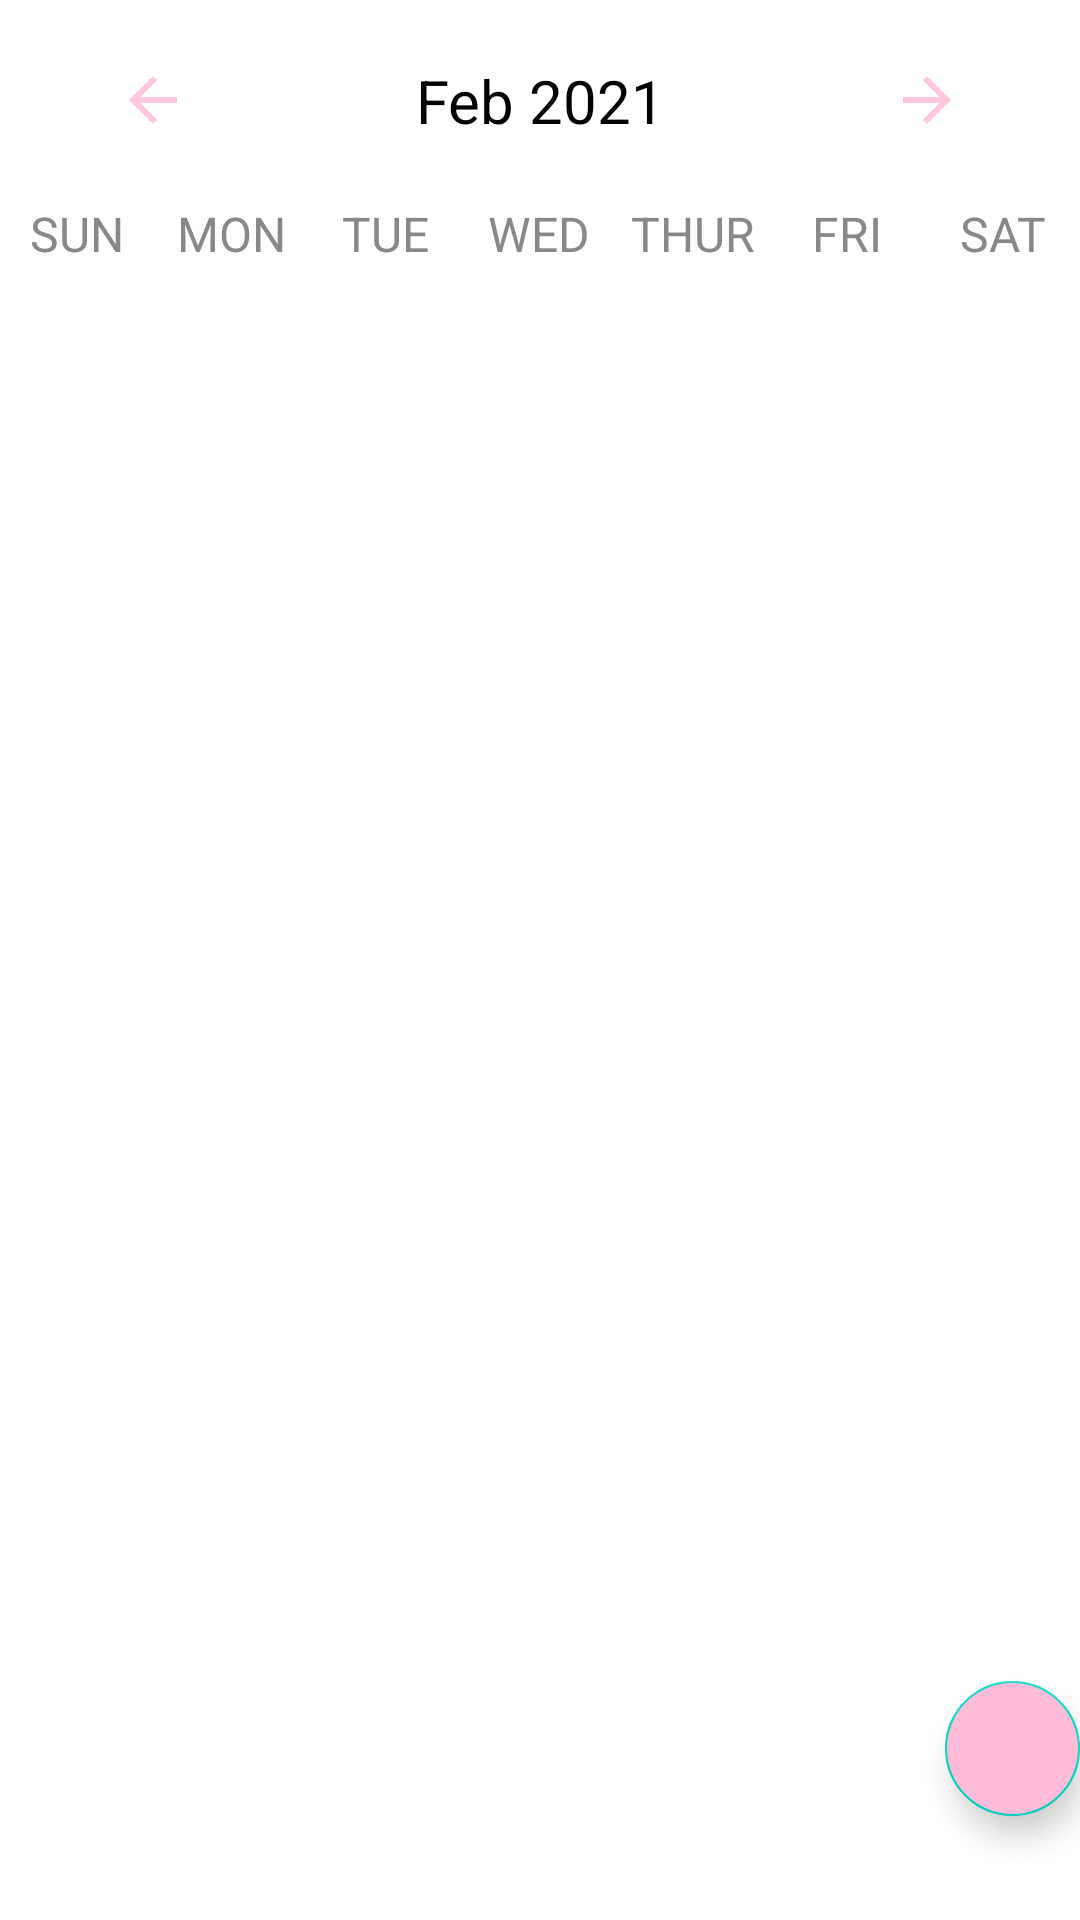

Named icons in this screenshot (1080x1920) and their bounding boxes, bbox=[x1, y1, x2, y2]:
arrow back: bbox=[129, 76, 177, 124]
arrow forward: bbox=[903, 76, 951, 124]
